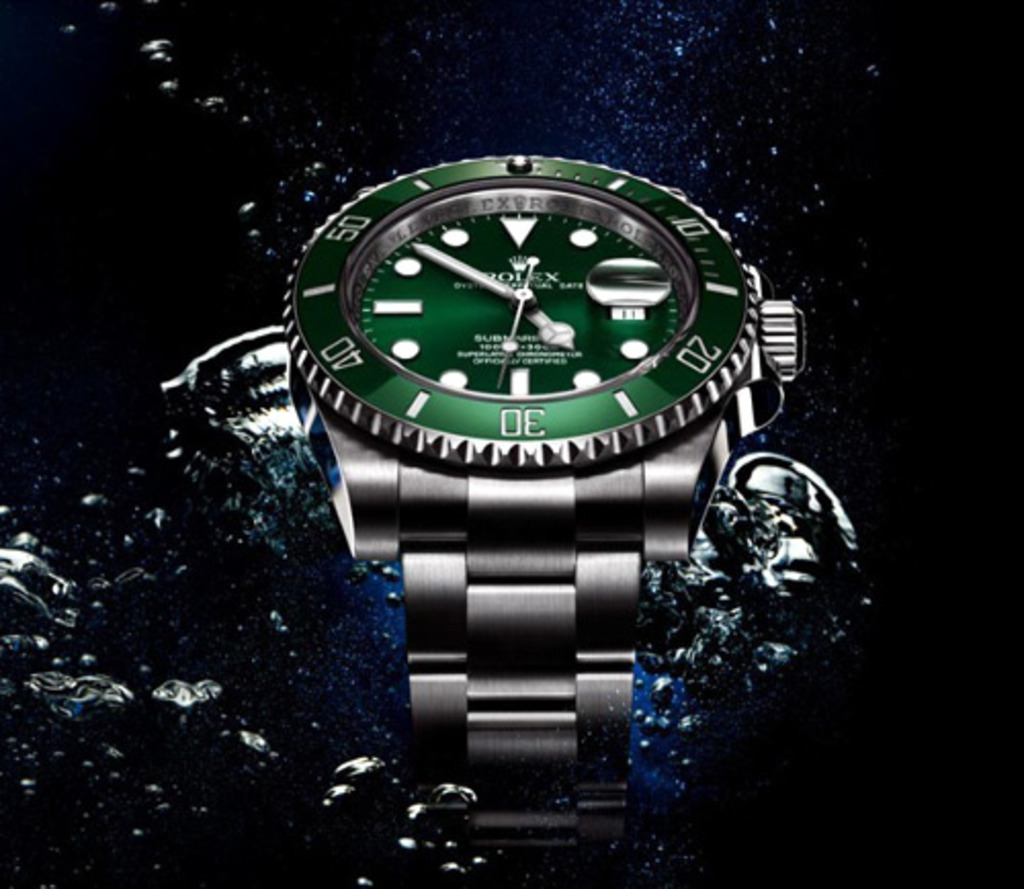watch: (286, 122, 768, 792)
